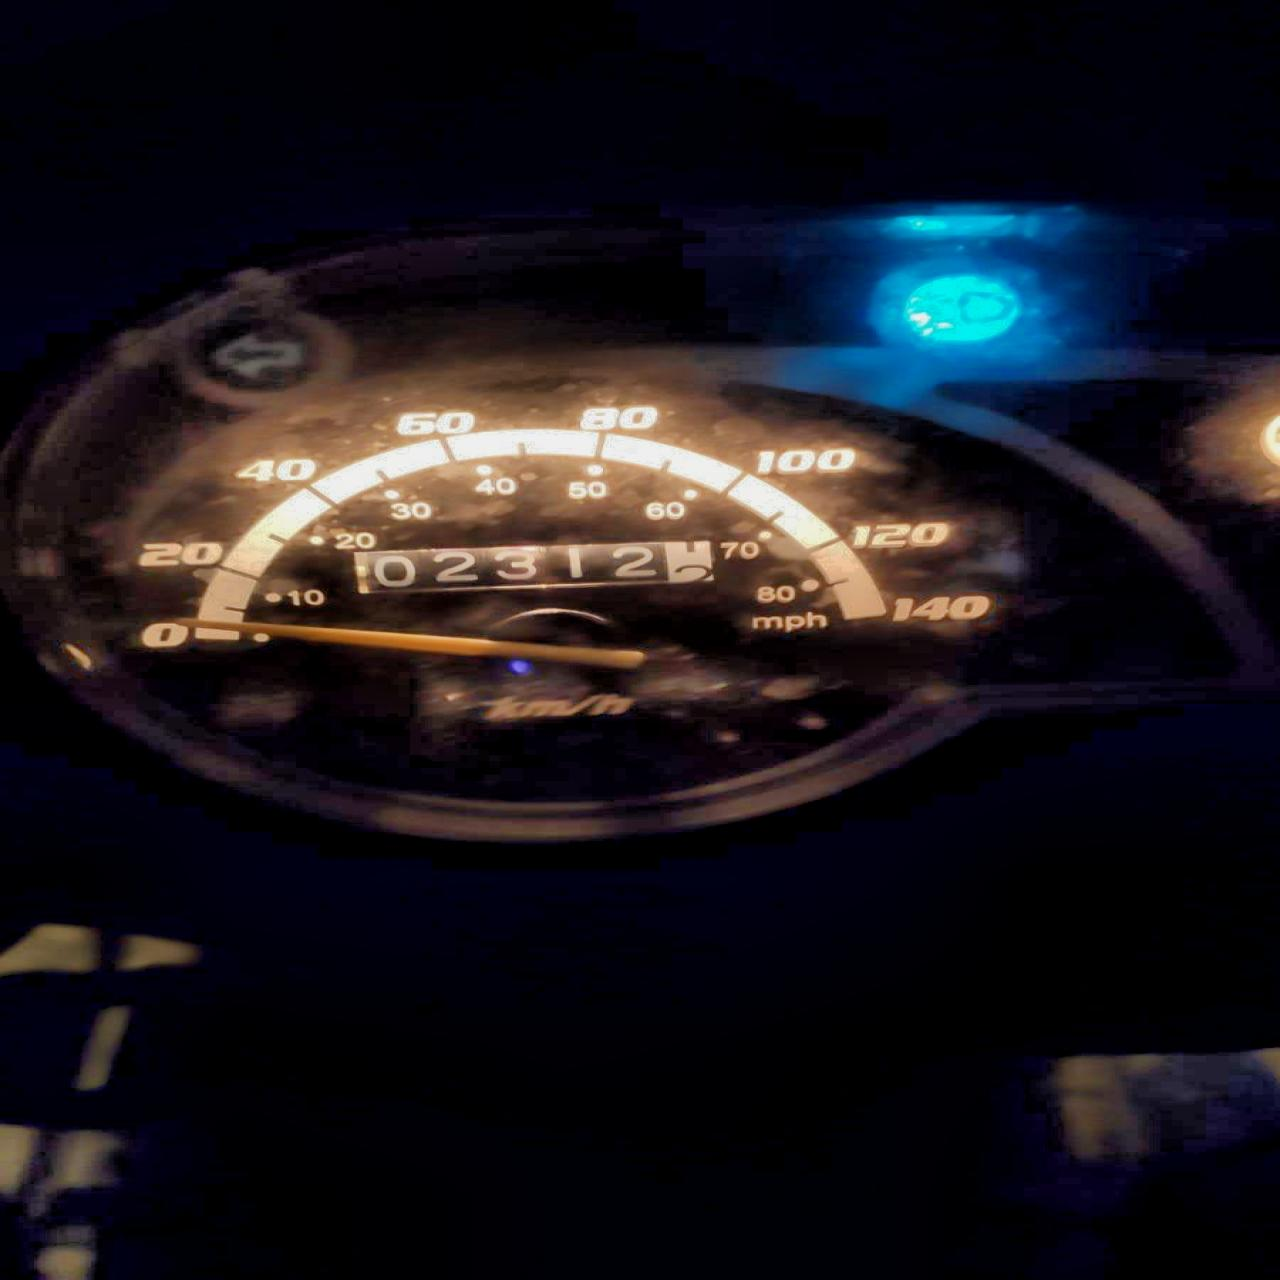0: (369, 553, 416, 587), (353, 530, 379, 550)
1: (559, 543, 592, 580)
2: (428, 549, 481, 584), (606, 544, 660, 578), (670, 560, 717, 586)
3: (489, 549, 539, 580)
odometer: (347, 537, 721, 595)
